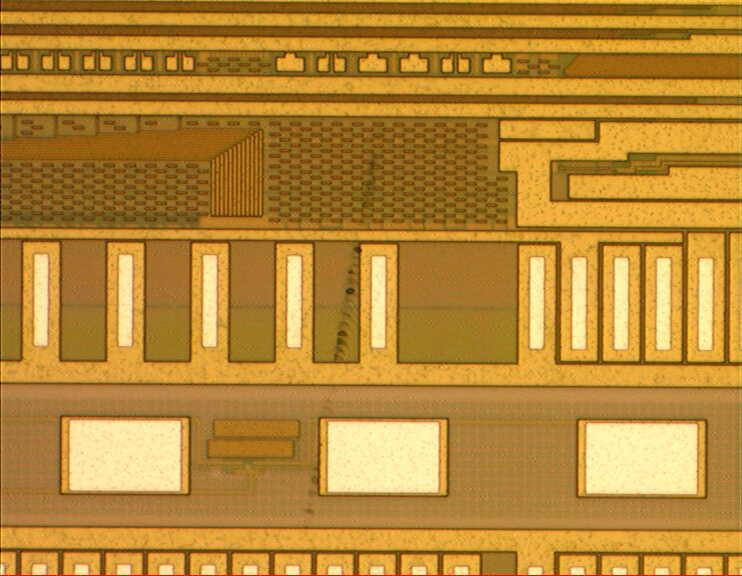SCRATCH: (296, 162, 388, 528)
